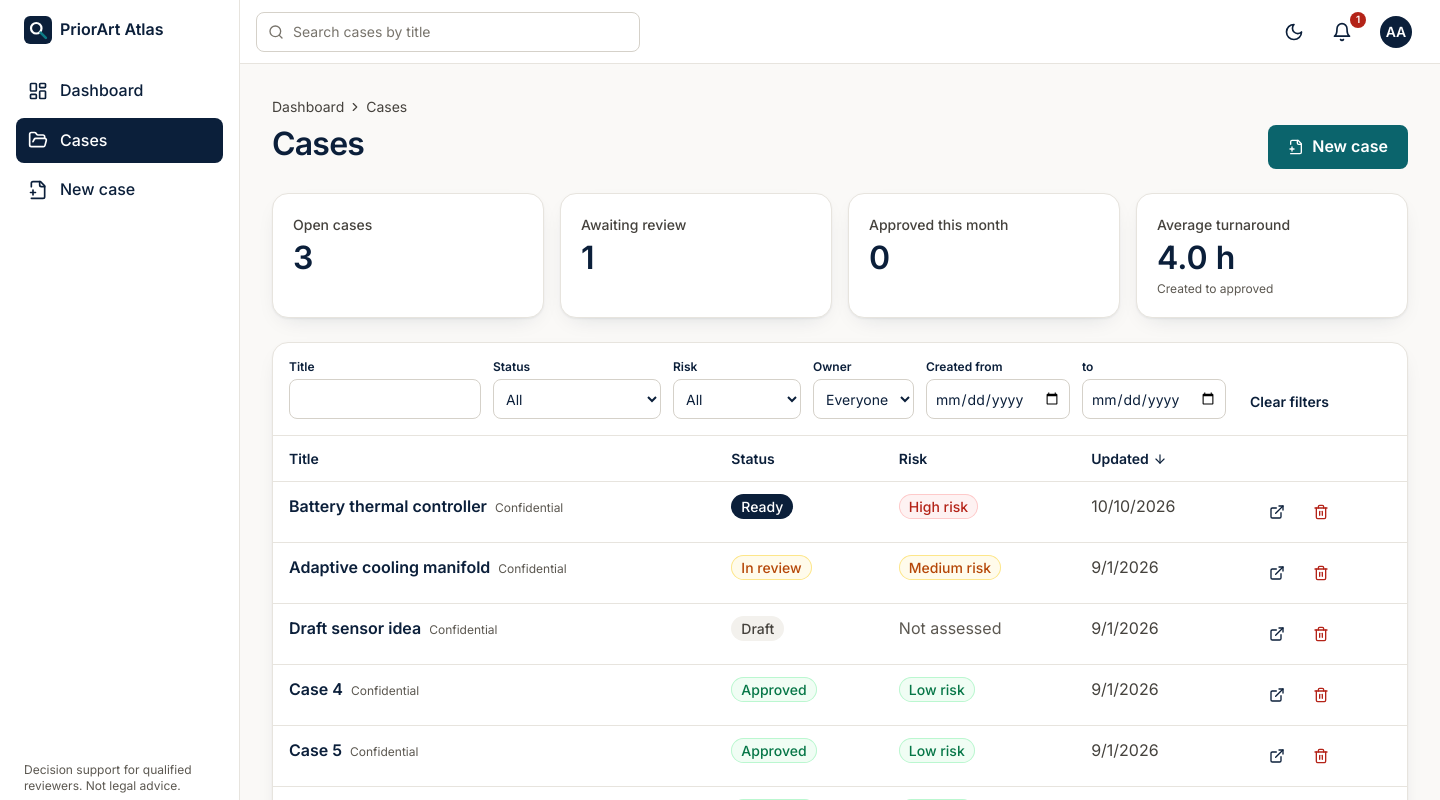
Test: dashboard › filters by status, by title and by owner, and clears the filters
Select "In review" in the dropdown labelled "Status" at (577, 399), box [493, 379, 661, 419]
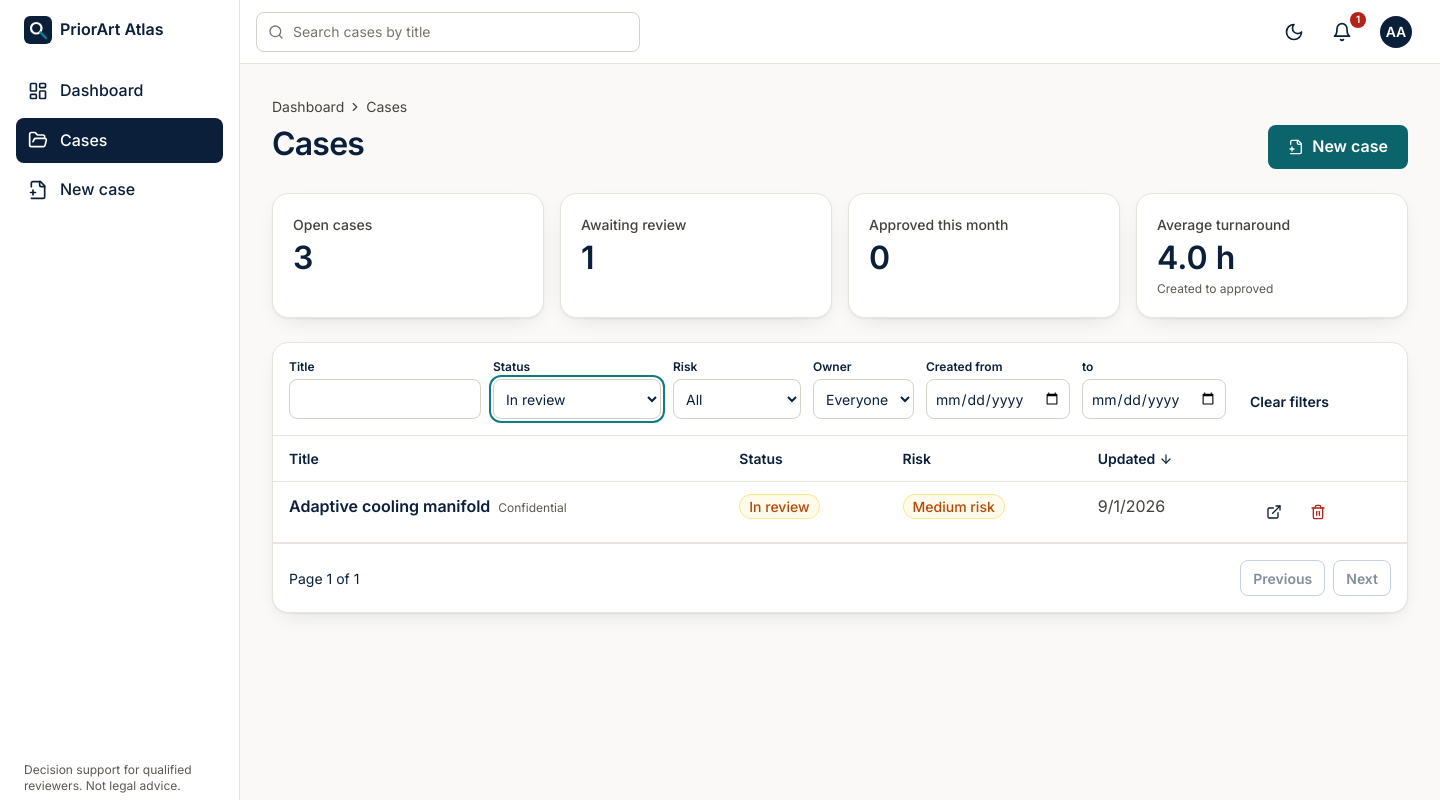
Check: the link "Adaptive cooling manifold" is shown, box [289, 496, 490, 516]
Check: the number of rows is 2, box [273, 436, 1407, 482]; [273, 482, 1407, 543]
Click the button "Clear filters" at (1289, 401), box [1238, 383, 1341, 419]
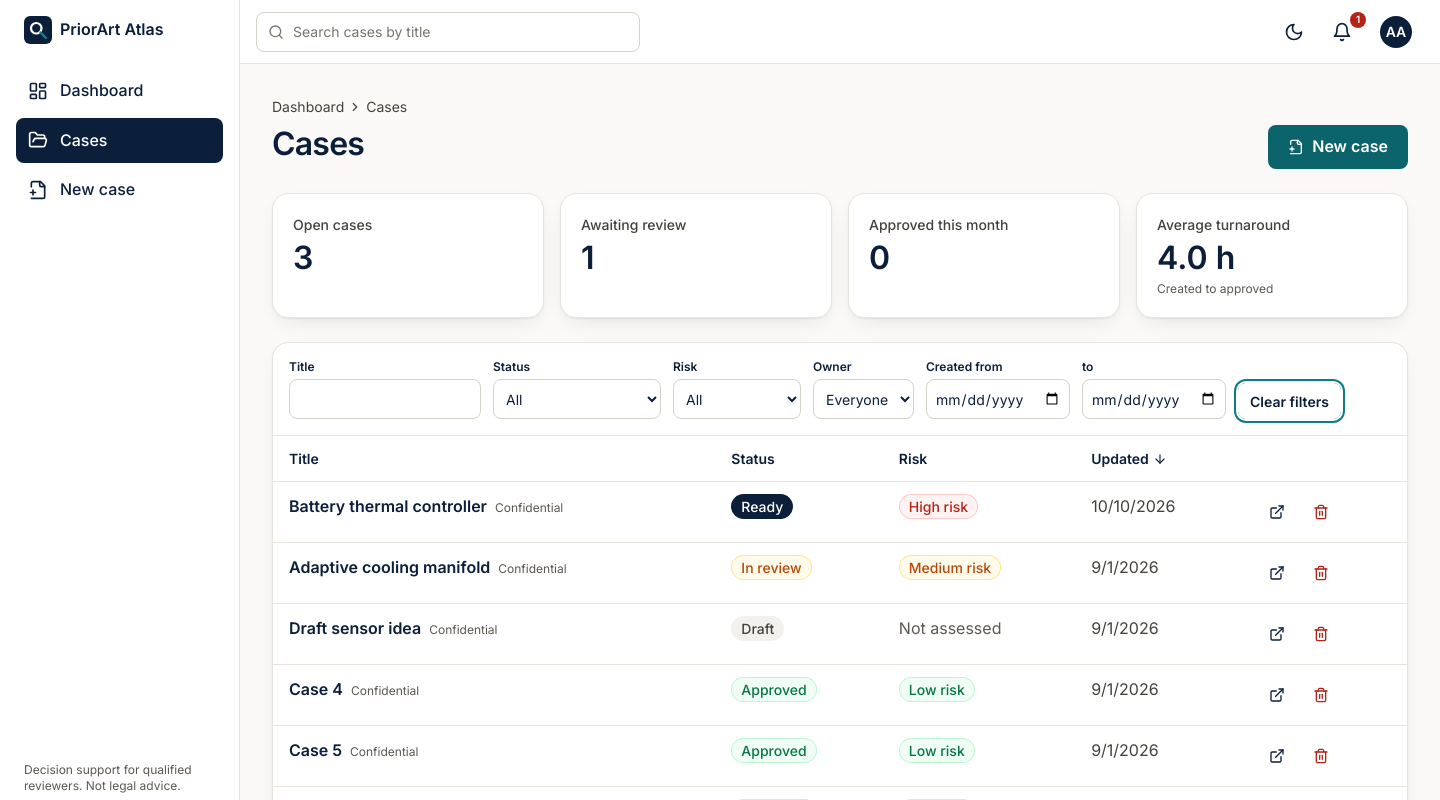
Type "sensor" into the field labelled "Title" at (385, 399), box [289, 379, 481, 419]
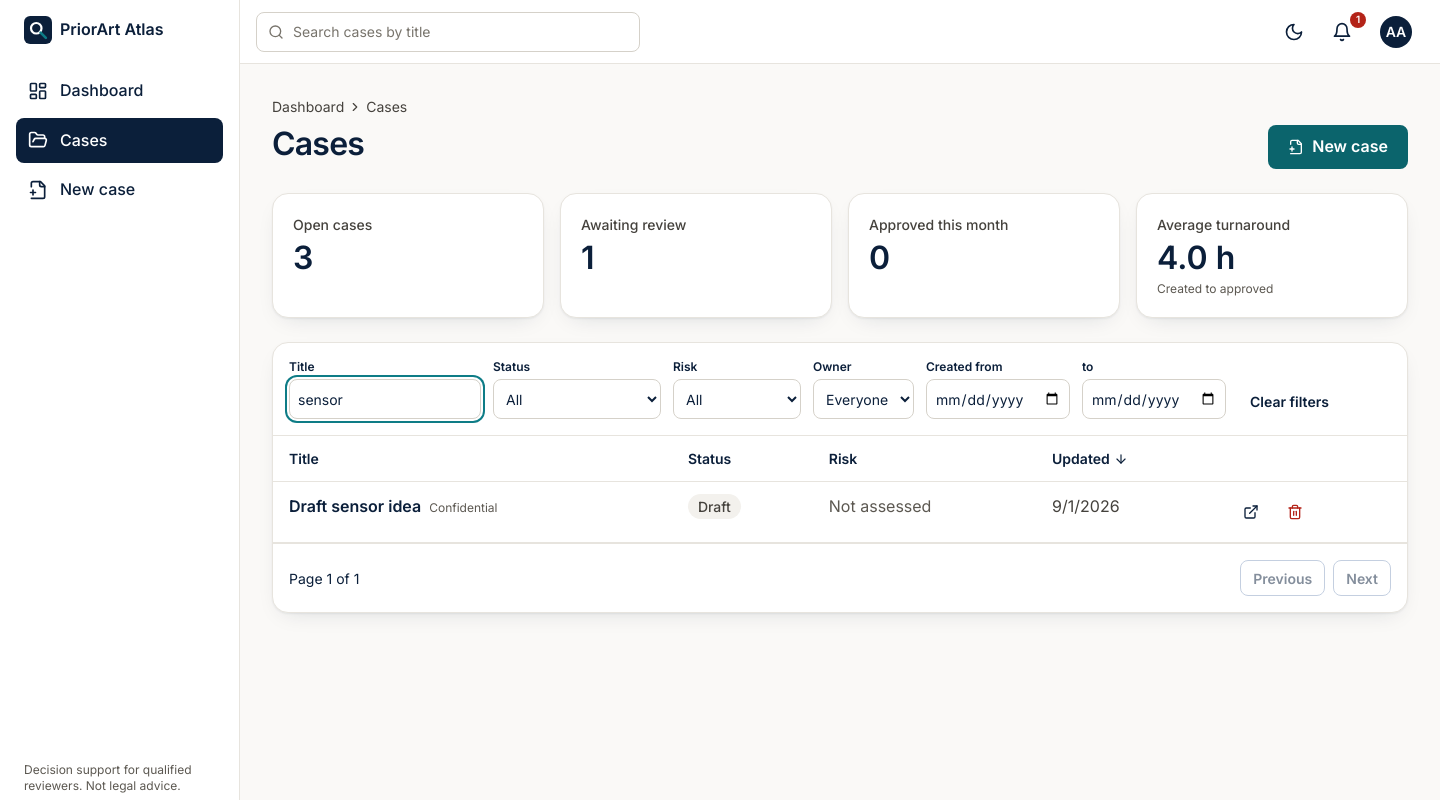
Check: the number of rows is 2, box [273, 436, 1407, 482]; [273, 482, 1407, 543]
Clear the field labelled "Title" at (385, 399), box [289, 379, 481, 419]
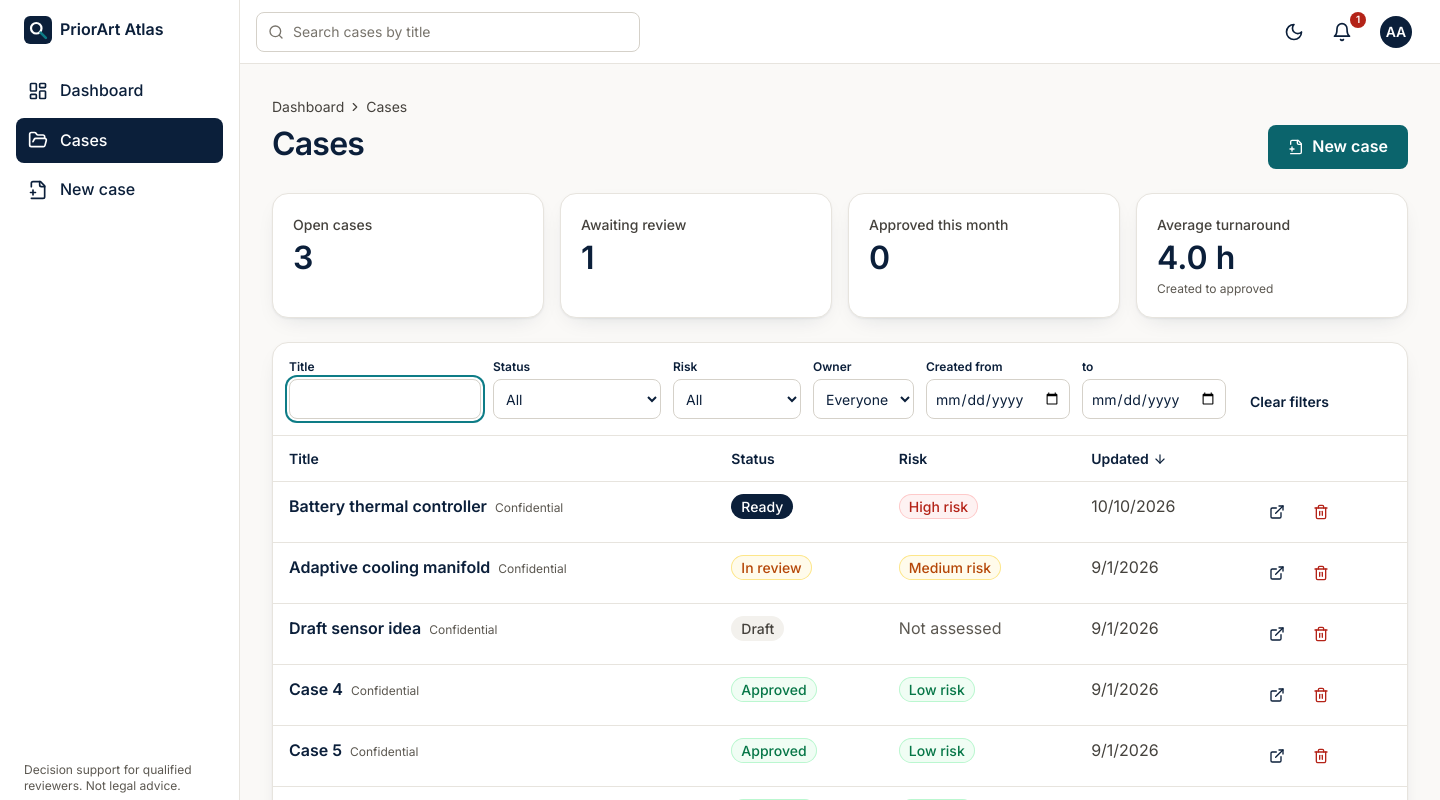
Select "Me" in the dropdown labelled "Owner" at (864, 399), box [813, 379, 914, 419]
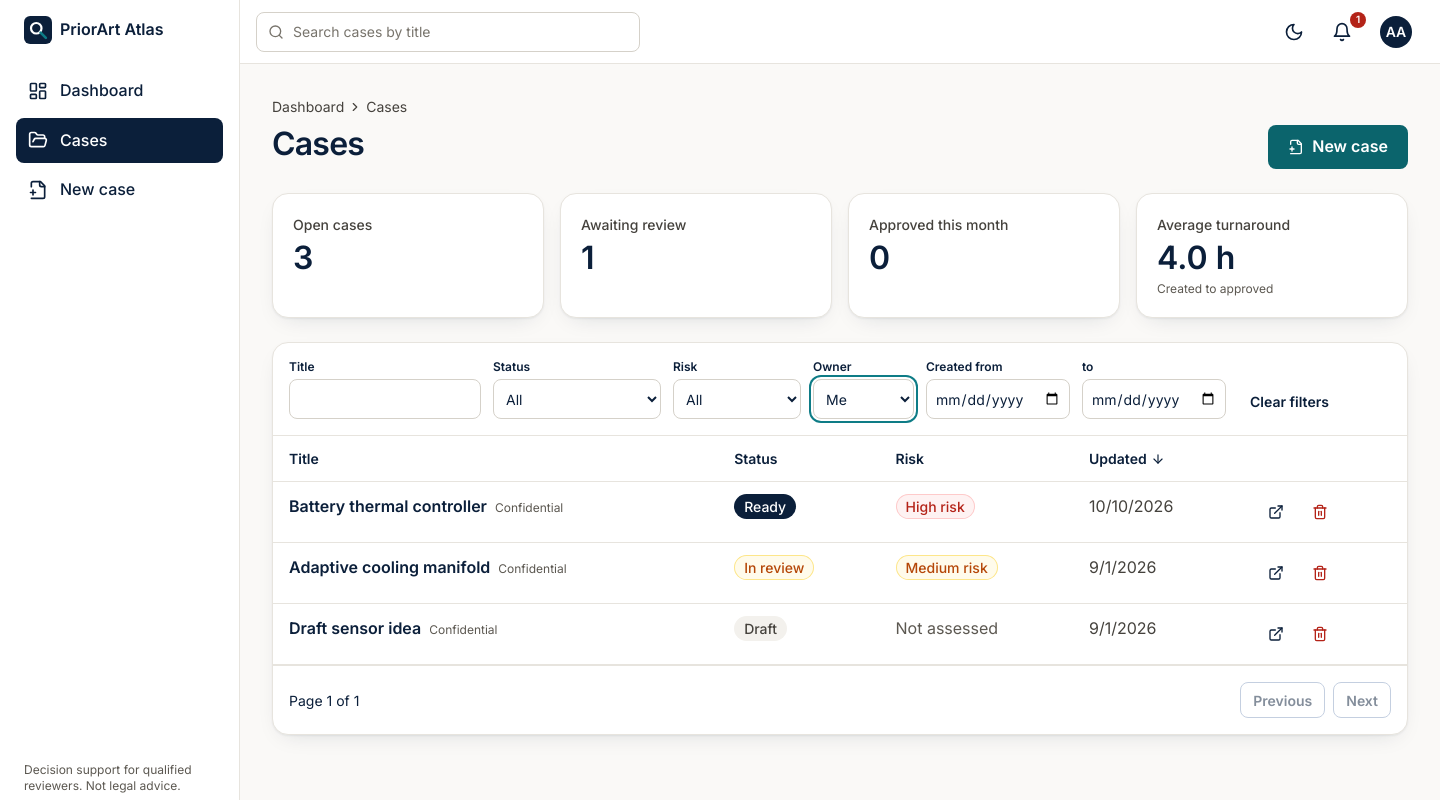
Check: the number of rows is 4, box [273, 436, 1407, 482]; [273, 482, 1407, 543]; [273, 543, 1407, 604]; [273, 604, 1407, 665]
Select "Failed" in the dropdown labelled "Status" at (577, 399), box [493, 379, 661, 419]
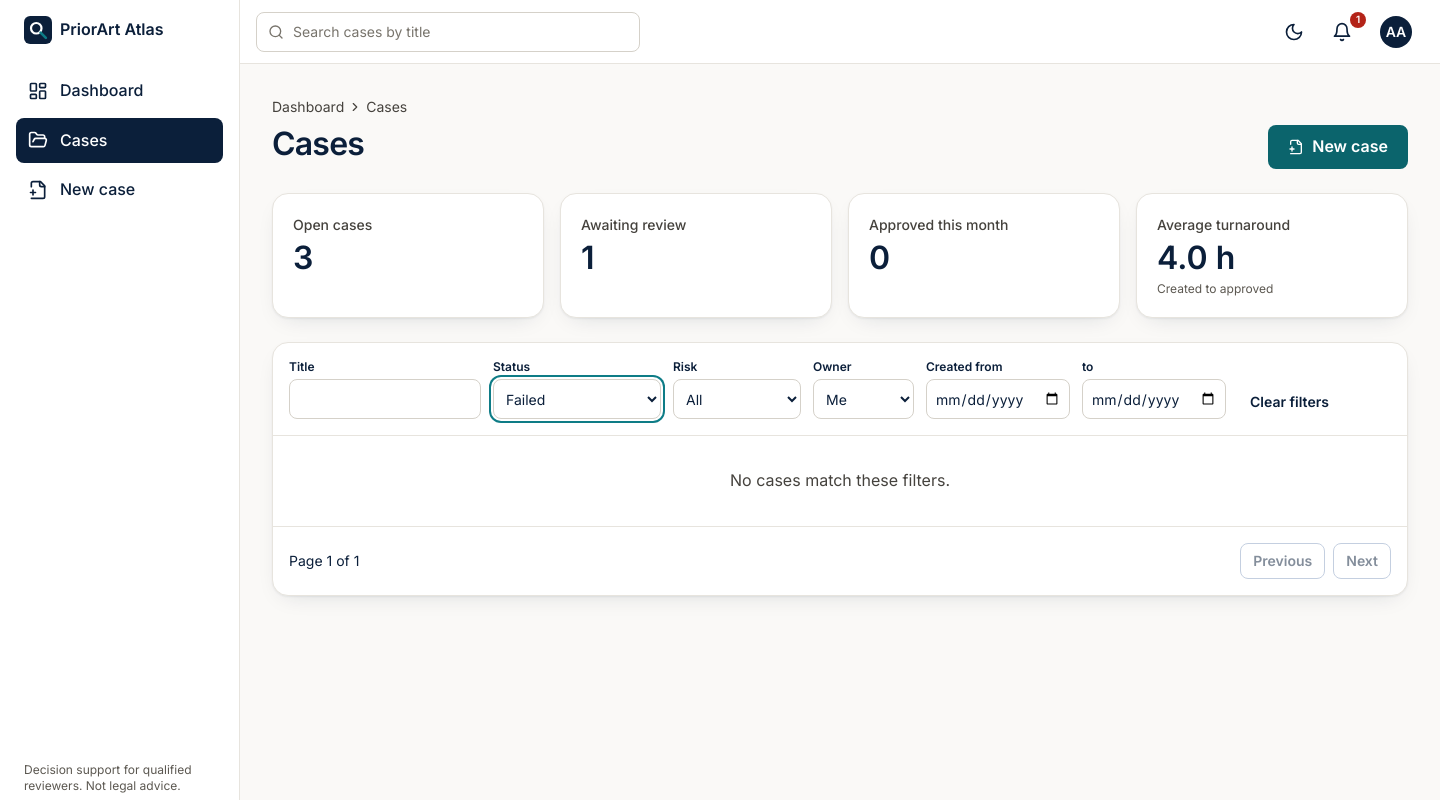
Check: the text "No cases match these filters." is shown, box [730, 470, 950, 490]
